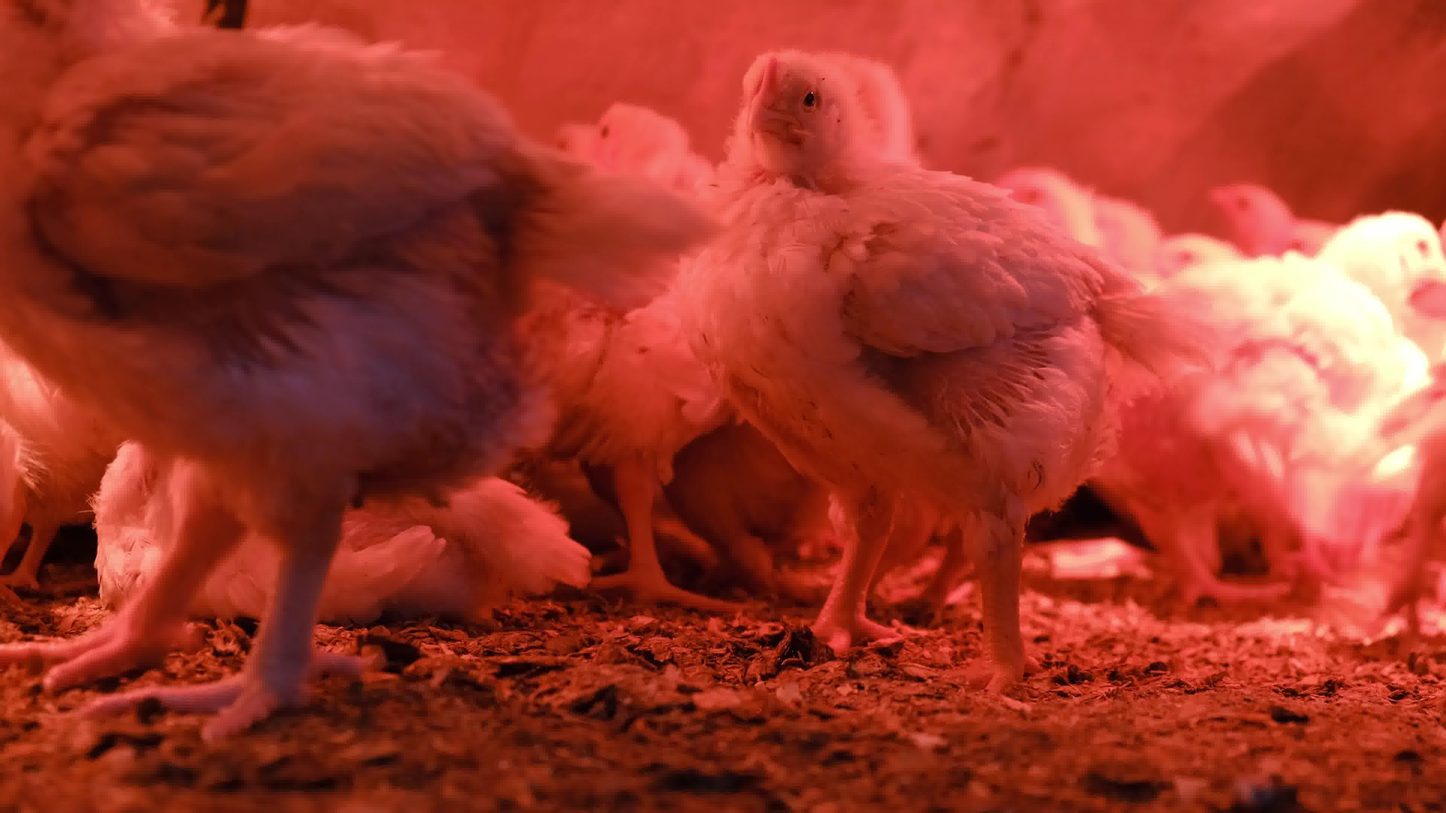AbNormal: (94, 395, 625, 640)
Normal: (0, 0, 616, 743), (695, 9, 1149, 704), (544, 85, 800, 662), (1164, 222, 1446, 614), (1213, 149, 1354, 326), (1307, 199, 1446, 346), (990, 136, 1135, 275), (1126, 203, 1252, 297)
